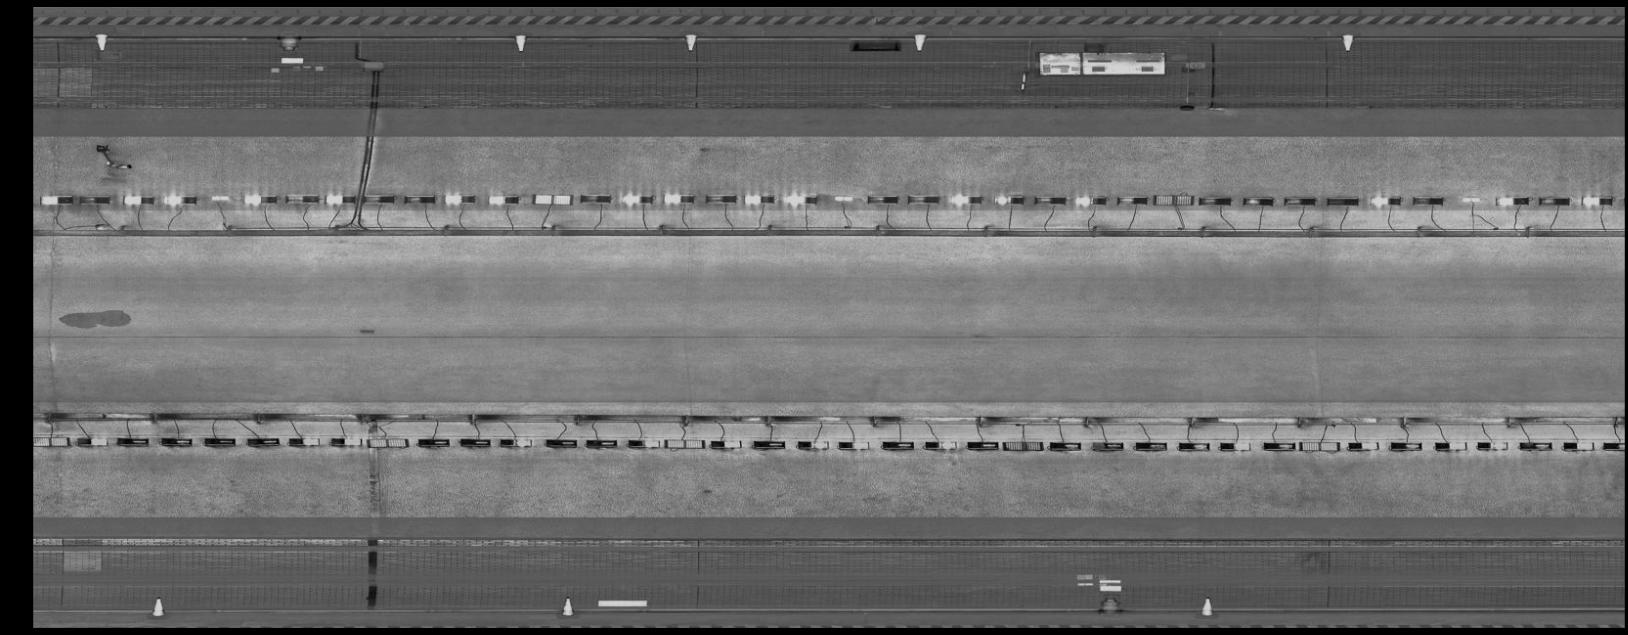light: (530, 189, 576, 208), (363, 433, 412, 450), (1151, 190, 1196, 208), (782, 188, 821, 208), (1296, 437, 1342, 453), (998, 437, 1047, 452), (619, 188, 657, 208), (481, 189, 521, 208), (439, 189, 479, 208), (34, 432, 73, 450), (661, 436, 707, 451), (1491, 191, 1534, 208), (321, 188, 360, 205), (701, 189, 740, 206), (1344, 437, 1384, 453), (740, 190, 778, 208), (160, 191, 199, 208), (1237, 192, 1278, 208), (71, 433, 112, 448), (577, 189, 614, 206), (1578, 191, 1615, 209), (1132, 437, 1170, 453), (1215, 437, 1253, 453), (241, 190, 281, 205), (1194, 192, 1234, 208), (1516, 438, 1556, 453), (948, 191, 985, 208), (1113, 191, 1150, 208), (1089, 438, 1127, 454), (281, 189, 321, 204), (1323, 192, 1362, 208), (1407, 192, 1446, 208), (707, 435, 747, 450), (749, 436, 788, 451), (1431, 437, 1470, 452), (1561, 438, 1600, 453), (919, 437, 960, 451), (1281, 192, 1320, 208), (1365, 192, 1404, 208), (793, 436, 832, 451), (199, 434, 240, 448), (455, 435, 495, 449), (542, 435, 582, 449), (661, 190, 697, 206), (864, 191, 901, 206), (1071, 192, 1109, 208), (1260, 438, 1298, 453), (74, 192, 113, 206), (112, 434, 152, 448), (414, 435, 454, 449), (496, 435, 536, 449), (905, 191, 942, 206), (1388, 438, 1424, 453), (37, 192, 76, 206), (119, 192, 158, 206), (400, 191, 438, 205), (244, 434, 282, 448), (991, 191, 1026, 206), (1032, 192, 1069, 206), (1536, 193, 1573, 208), (158, 434, 195, 448), (286, 434, 323, 448), (327, 434, 364, 448), (1473, 438, 1511, 452), (1176, 438, 1211, 453), (833, 438, 872, 451), (360, 192, 399, 205), (878, 438, 917, 451), (964, 438, 1002, 451), (1046, 439, 1087, 451), (625, 436, 662, 449), (584, 436, 620, 449), (1601, 437, 1624, 450), (1458, 193, 1484, 204), (831, 193, 856, 202), (206, 191, 232, 199)
